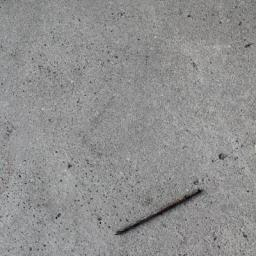FOD: (114, 189, 207, 238)
